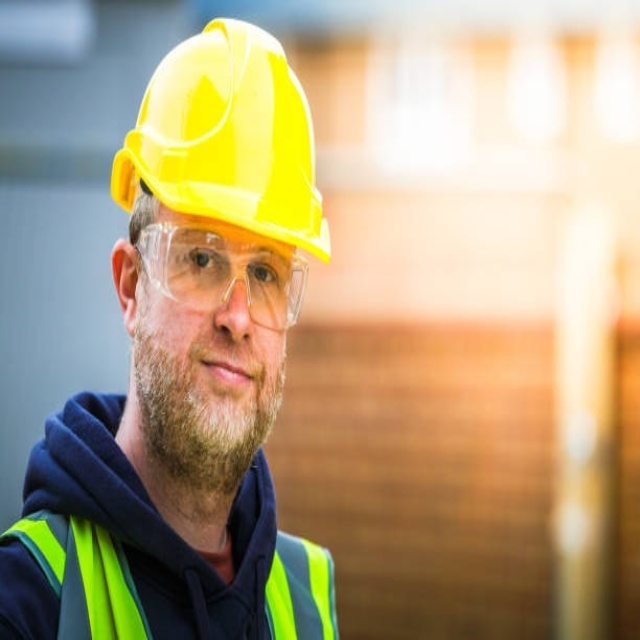Gafas: (135, 223, 311, 333)
Sin_mascara: (186, 340, 266, 435)
